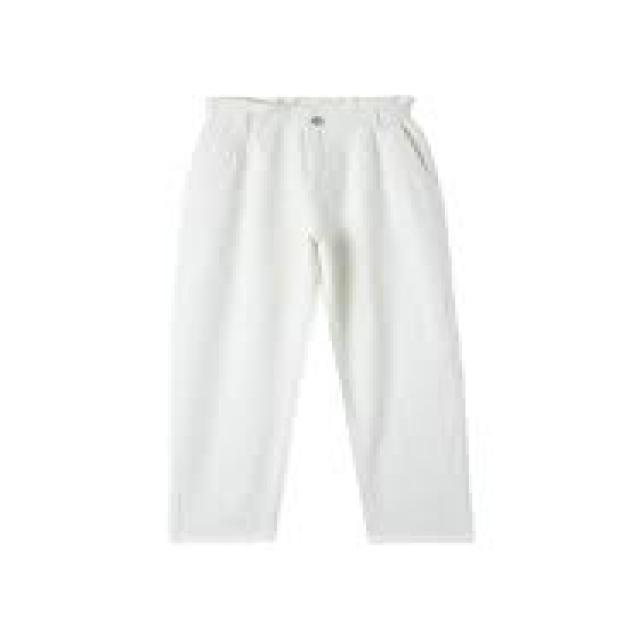long-pants: (172, 96, 474, 544)
